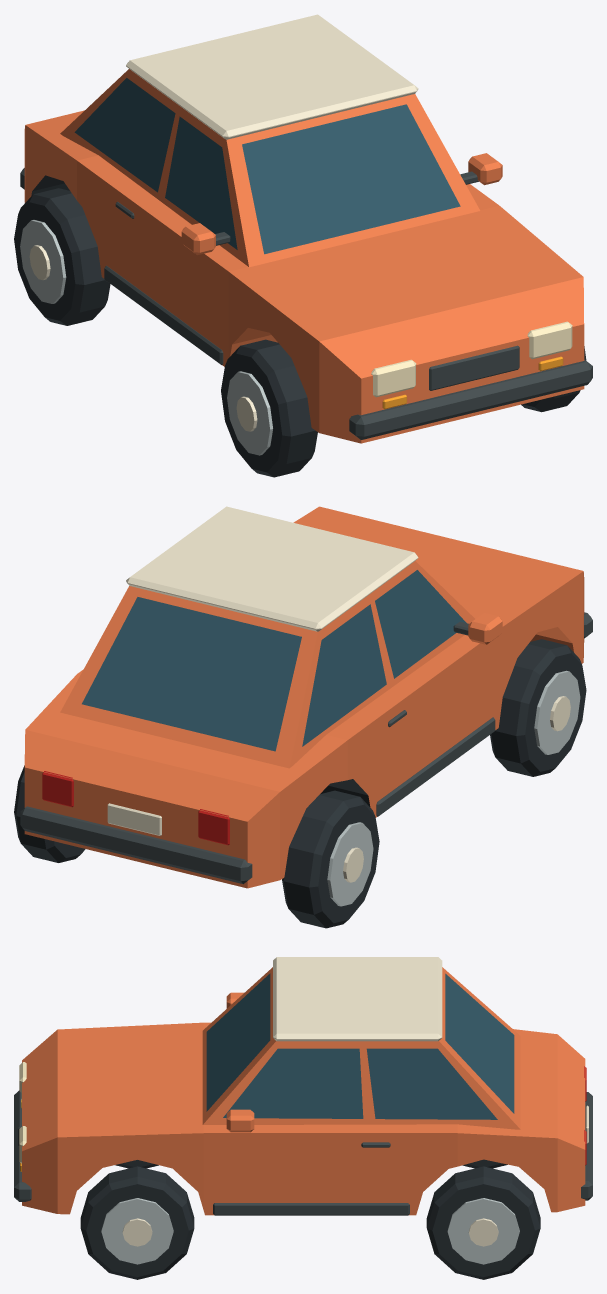
File: papaya-car.glb
3 renders of one model, top to bottom at view 1: azimuth 30°, elevation 25°; view 2: azimuth 150°, elevation 25°; view 3: azimuth 270°, elevation 25°, orthographic. The views are drawn at different scales.
Parts seen in each view (by area): view 1: Body, Windshield, Ivory roof, Cabin and pillars, Wheel_FL, Wheel_RL, Left front/side window A, Front bumper, Left front/side window B, Alloy_RL, Alloy_FL, Front grille (+6 smaller); view 2: Body, Rear window, Ivory roof, Cabin and pillars, Wheel_RL, Wheel_FL, Left front/side window A, Rear bumper, Left front/side window B, Alloy_RL, Alloy_FL, Sill (+7 smaller); view 3: Body, Ivory roof, Cabin and pillars, Right front/side window A, Right front/side window B, Wheel_FR, Wheel_RR, Rear window, Windshield, Alloy_FR, Alloy_RR, Sill.001 (+5 smaller).
Part boxes in pixels (x1,y1,x2,y2): Body: (24, 110, 584, 443); Windshield: (242, 104, 460, 254); Ivory roof: (126, 14, 418, 139); Cabin and pillars: (60, 69, 480, 267); Wheel_FL: (221, 339, 317, 477); Wheel_RL: (14, 188, 110, 325); Left front/side window A: (74, 78, 175, 192); Front bumper: (349, 359, 592, 439); Left front/side window B: (165, 116, 237, 249); Alloy_RL: (20, 220, 66, 303); Alloy_FL: (227, 371, 272, 455); Front grille: (429, 345, 519, 390); Body: (24, 506, 584, 888); Rear window: (82, 597, 301, 751); Ivory roof: (126, 506, 418, 631); Cabin and pillars: (60, 561, 474, 768); Wheel_RL: (282, 790, 379, 928); Wheel_FL: (490, 639, 586, 776); Left front/side window A: (302, 604, 386, 746); Rear bumper: (20, 806, 252, 884); Left front/side window B: (375, 570, 466, 678); Alloy_RL: (327, 822, 373, 906); Alloy_FL: (534, 670, 580, 754); Sill: (376, 717, 495, 816); Body: (22, 1022, 585, 1215); Ivory roof: (273, 957, 442, 1041); Cabin and pillars: (202, 967, 520, 1129); Right front/side window A: (223, 1048, 363, 1118); Right front/side window B: (366, 1048, 497, 1119); Wheel_FR: (80, 1166, 194, 1279); Wheel_RR: (426, 1166, 540, 1279); Rear window: (445, 973, 514, 1113); Windshield: (206, 973, 270, 1111); Alloy_FR: (101, 1198, 173, 1264); Alloy_RR: (447, 1198, 519, 1264); Sill.001: (213, 1203, 409, 1215).
Bounding box in the file's own units: 1.99 × 1.61 × 3.76.
